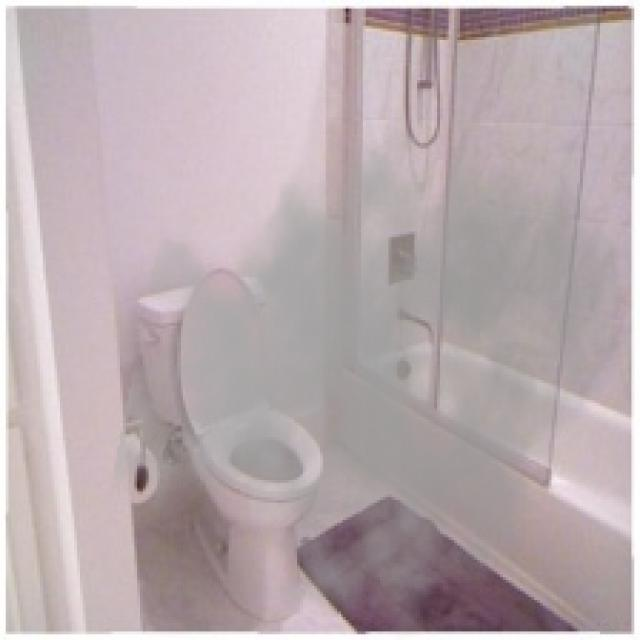smoke: (109, 92, 632, 637)
